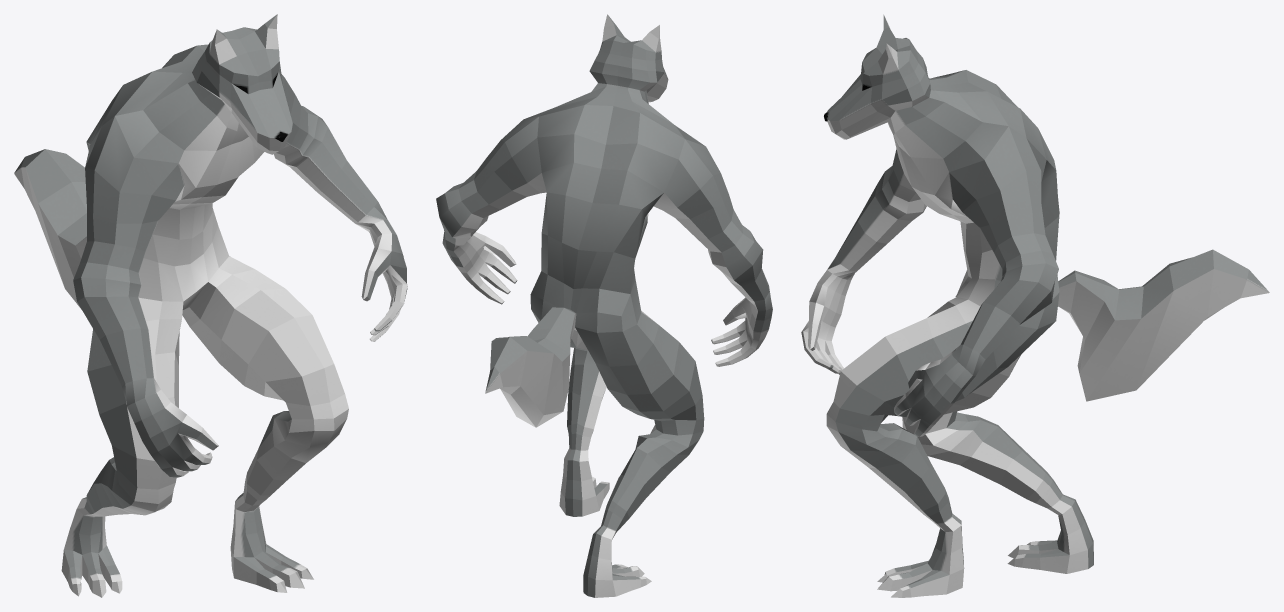
The model's file is WolfWalk(2).obj.
3 renders of one model, left to right at view 1: azimuth 30°, elevation 25°; view 2: azimuth 150°, elevation 25°; view 3: azimuth 270°, elevation 25°, orthographic. The views are drawn at different scales.
Visible parts, largest first — view 1: Box001; view 2: Box001; view 3: Box001.
Boxes of the visible parts, bbox=[...] form: Box001: bbox=[14, 14, 407, 597]; Box001: bbox=[436, 14, 772, 597]; Box001: bbox=[801, 14, 1269, 597].
Size of the model in its own units: 82.46 by 137 by 103.
